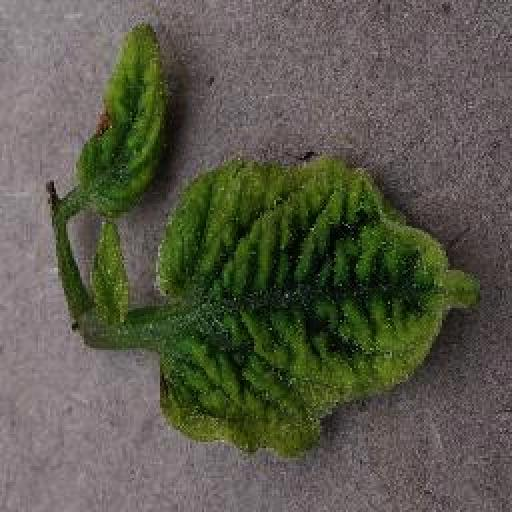disease_tomato: (163, 158, 485, 462), (76, 23, 172, 213), (88, 222, 130, 338)
